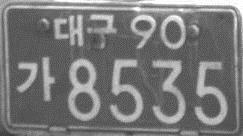0: (158, 13, 188, 50)
3: (149, 58, 187, 124)
5: (193, 58, 228, 127), (108, 57, 143, 122)
8: (66, 56, 101, 120)
9: (128, 12, 157, 49)
가: (14, 56, 57, 103)
대구_O: (52, 12, 118, 49)
